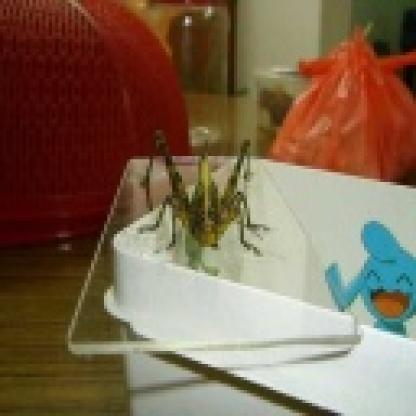grasshopper: (147, 134, 267, 254)
